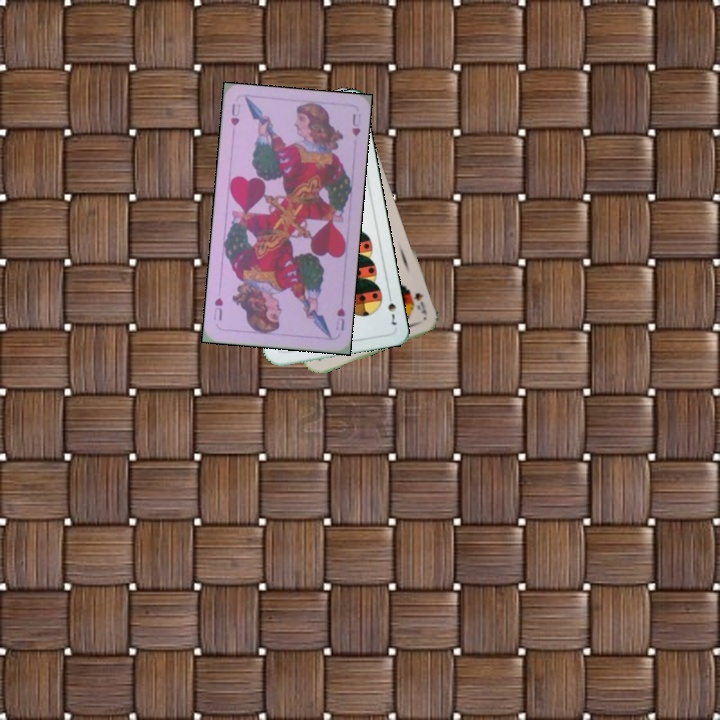HU: (331, 304, 347, 333), (227, 99, 243, 128)
S7: (384, 289, 400, 328)
SO: (409, 289, 429, 317)
